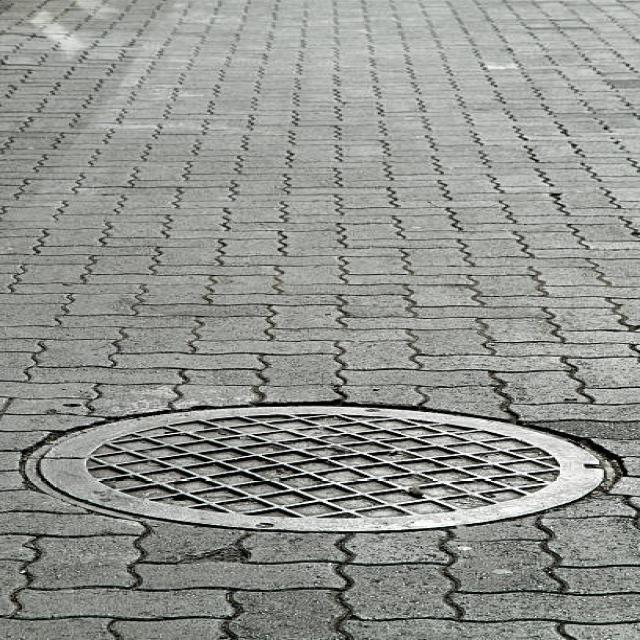Good: (25, 398, 626, 540)
